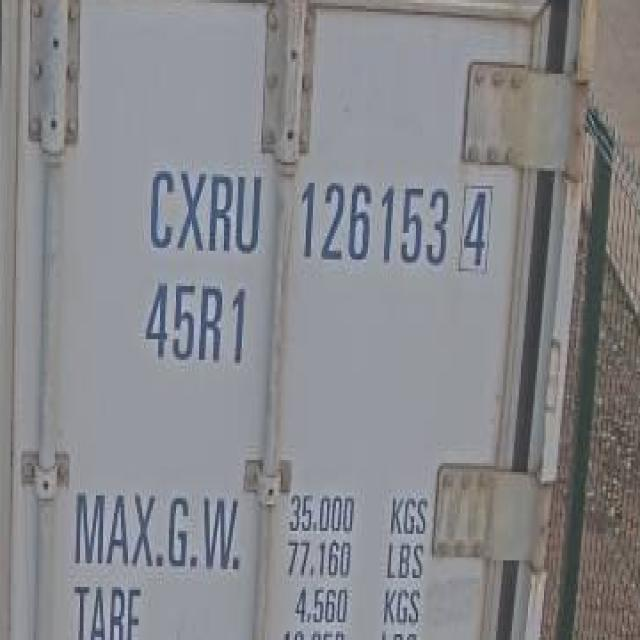dv: (458, 177, 493, 277)
owner: (145, 157, 263, 260)
serial: (293, 166, 449, 271)
size: (137, 273, 250, 372)
